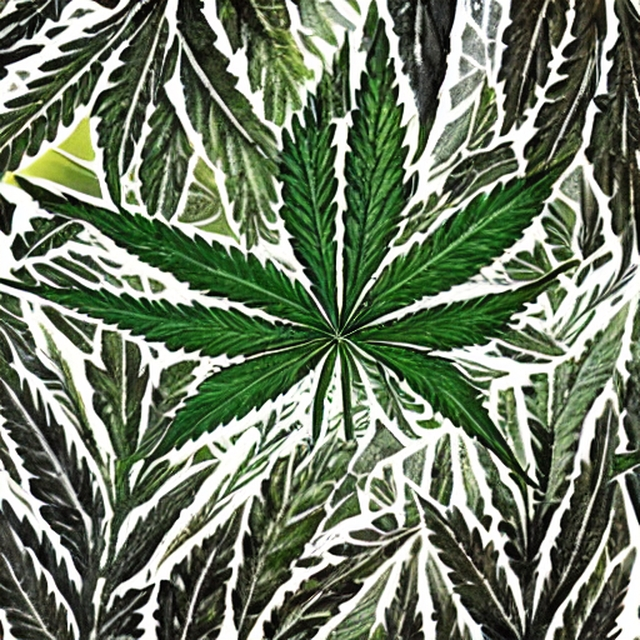Marijuana Leaf: (0, 0, 640, 640), (6, 14, 586, 484)
